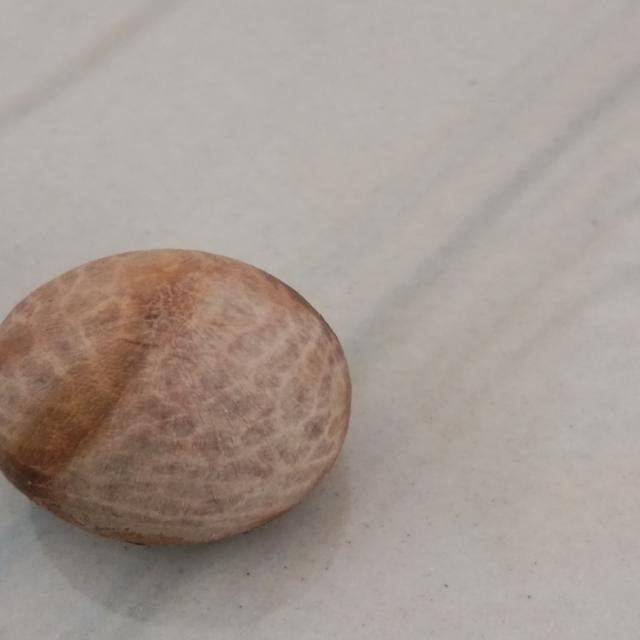karigot: (0, 232, 424, 546)
